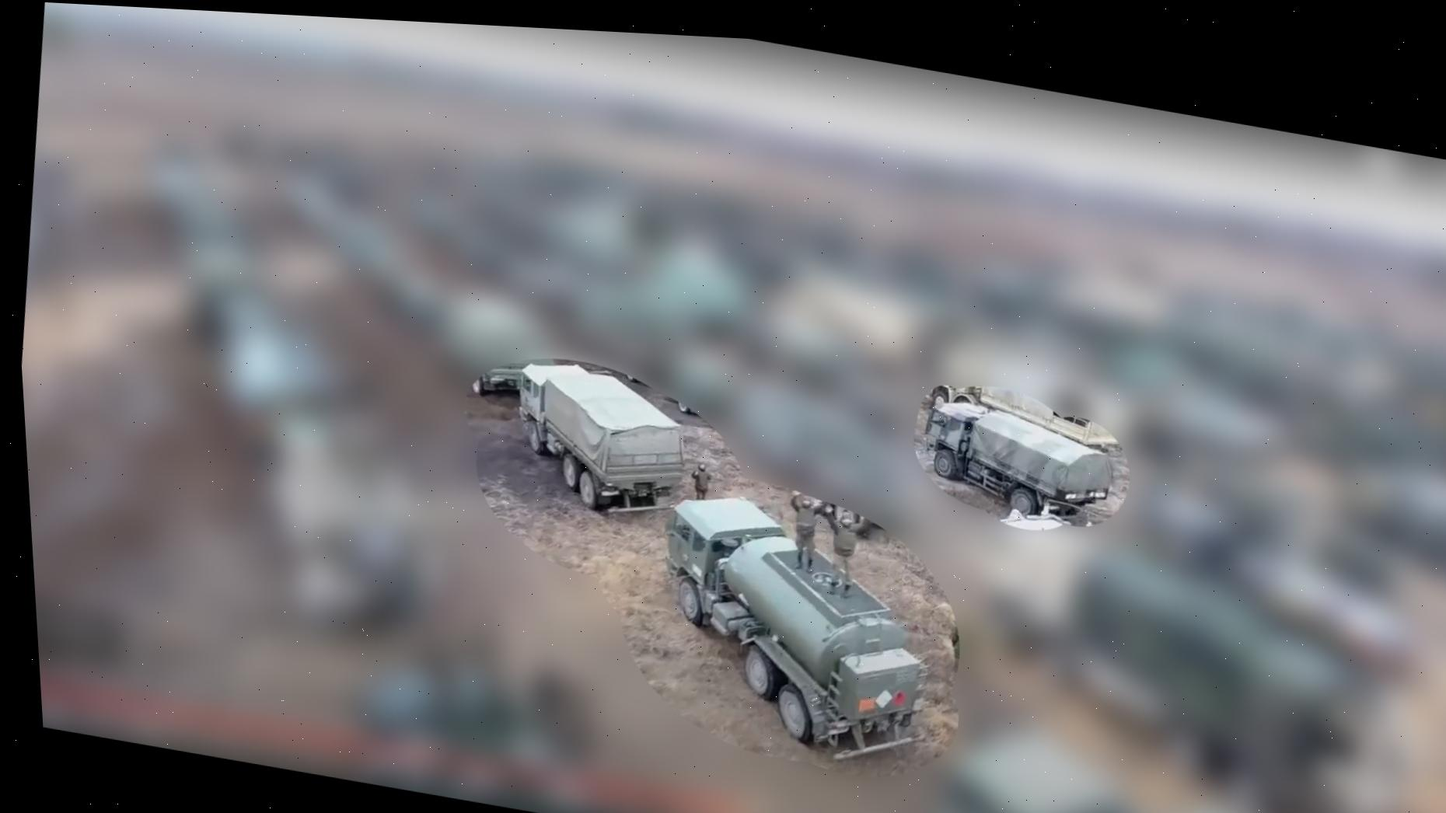truck: (636, 480, 958, 785), (497, 349, 700, 526), (916, 393, 1124, 529)
